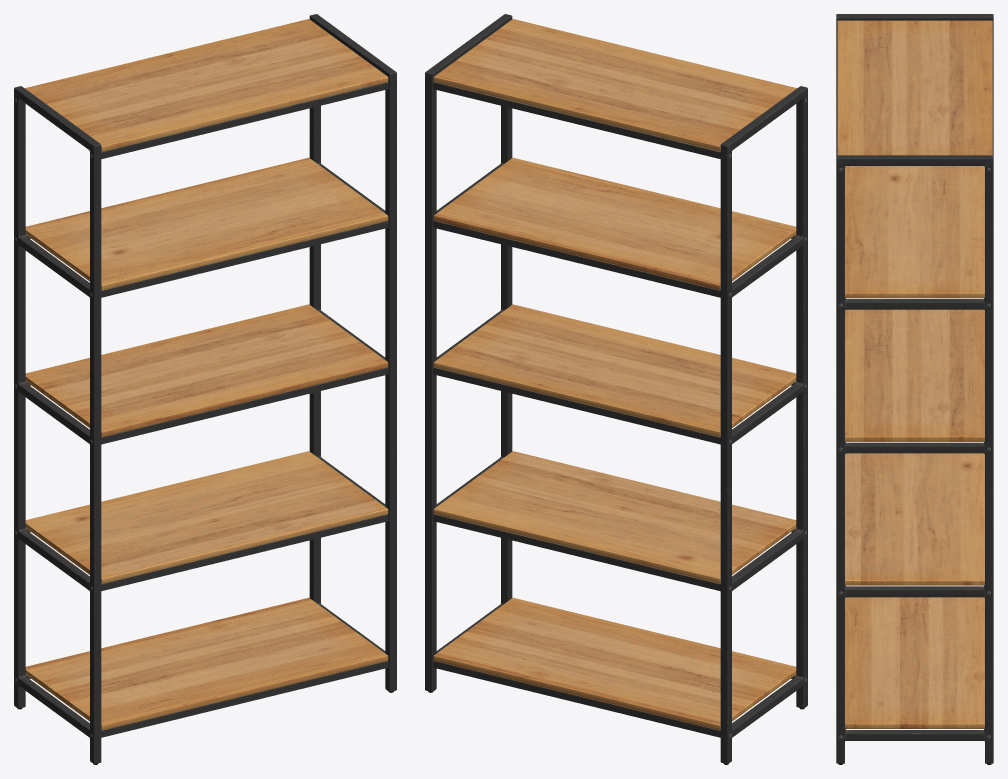
The model's file is steel_frame_shelves_01.glb.
3 renders of one model, left to right at view 1: azimuth 30°, elevation 25°; view 2: azimuth 150°, elevation 25°; view 3: azimuth 270°, elevation 25°, orthographic. The views are drawn at different scales.
Parts seen in each view (by area): view 1: steel_frame_shelves_01; view 2: steel_frame_shelves_01; view 3: steel_frame_shelves_01.
Part boxes in pixels (x1,y1,x2,y2): steel_frame_shelves_01: [14, 14, 396, 764]; steel_frame_shelves_01: [425, 14, 807, 764]; steel_frame_shelves_01: [836, 14, 993, 764].
Size of the model in its own units: 10.97 by 21.41 by 5.02.
1 material, 1 textured.
